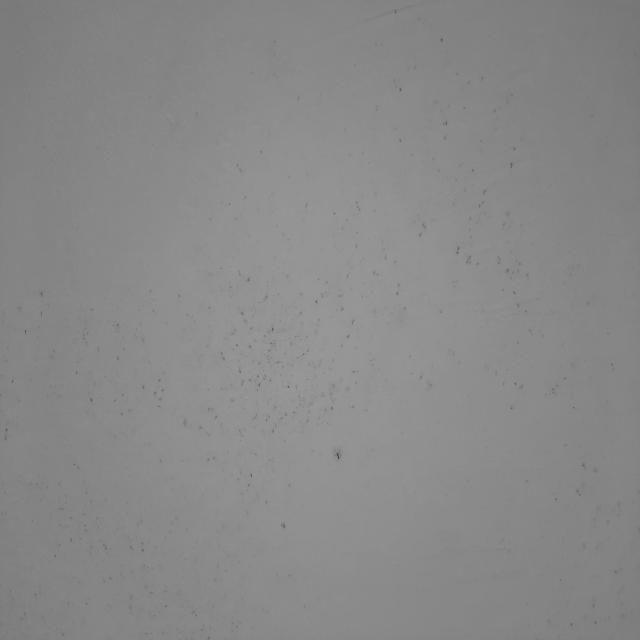rough and patchy surface: (11, 11, 634, 630)
